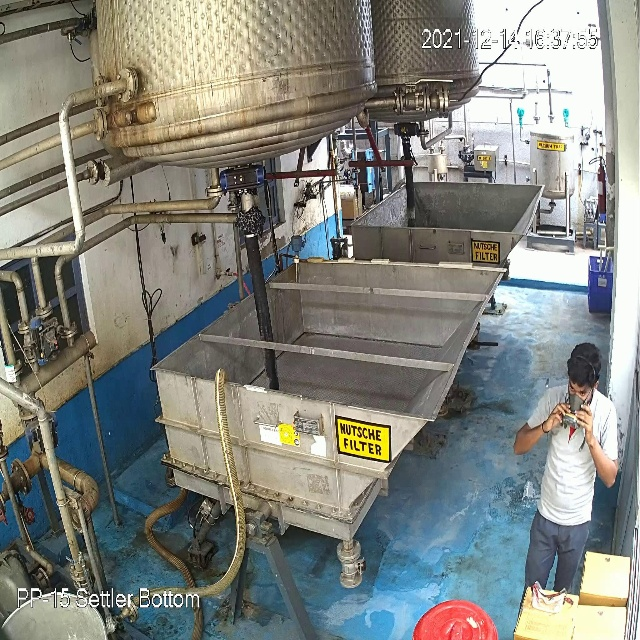Mascara: (560, 389, 593, 429)
Sin_gafas: (562, 372, 592, 400)
